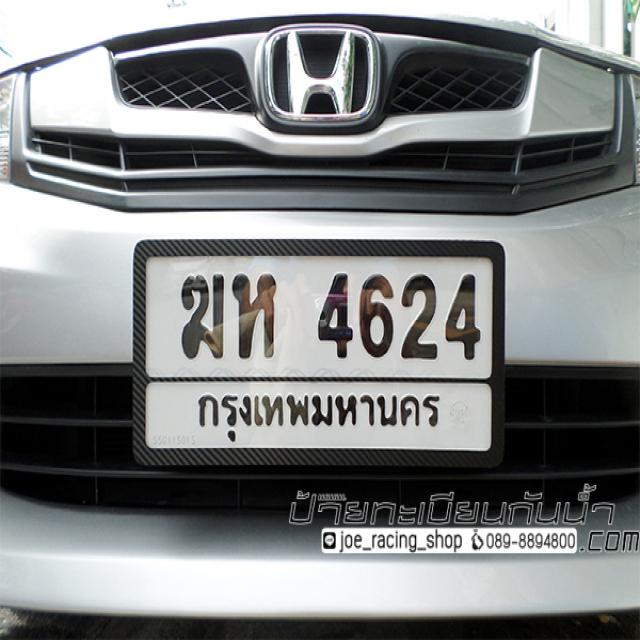license_plate: (132, 236, 507, 472)
